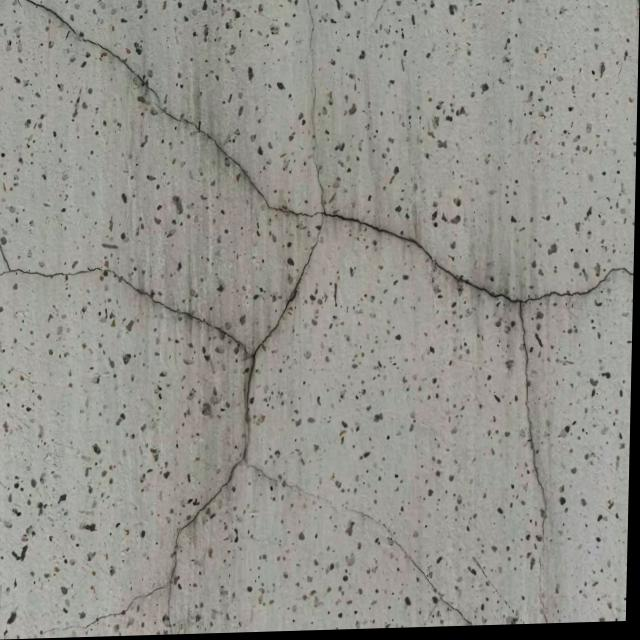crack: (0, 0, 632, 636)
